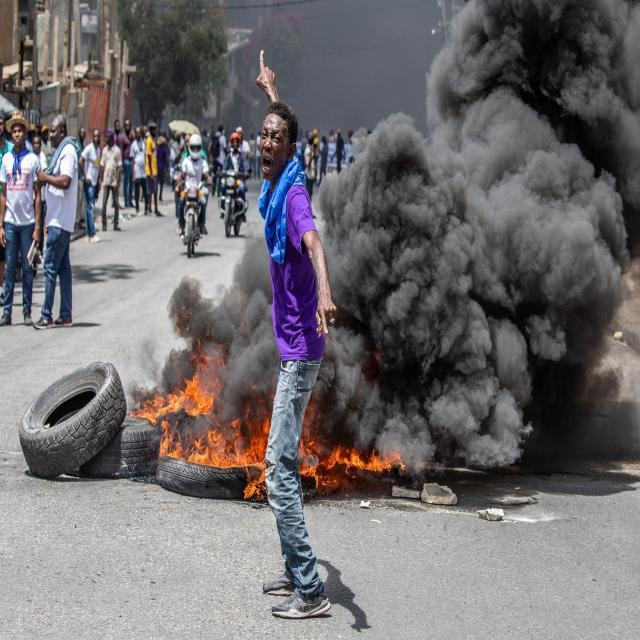fire: (157, 423, 265, 469), (300, 443, 402, 491), (127, 375, 213, 425)
